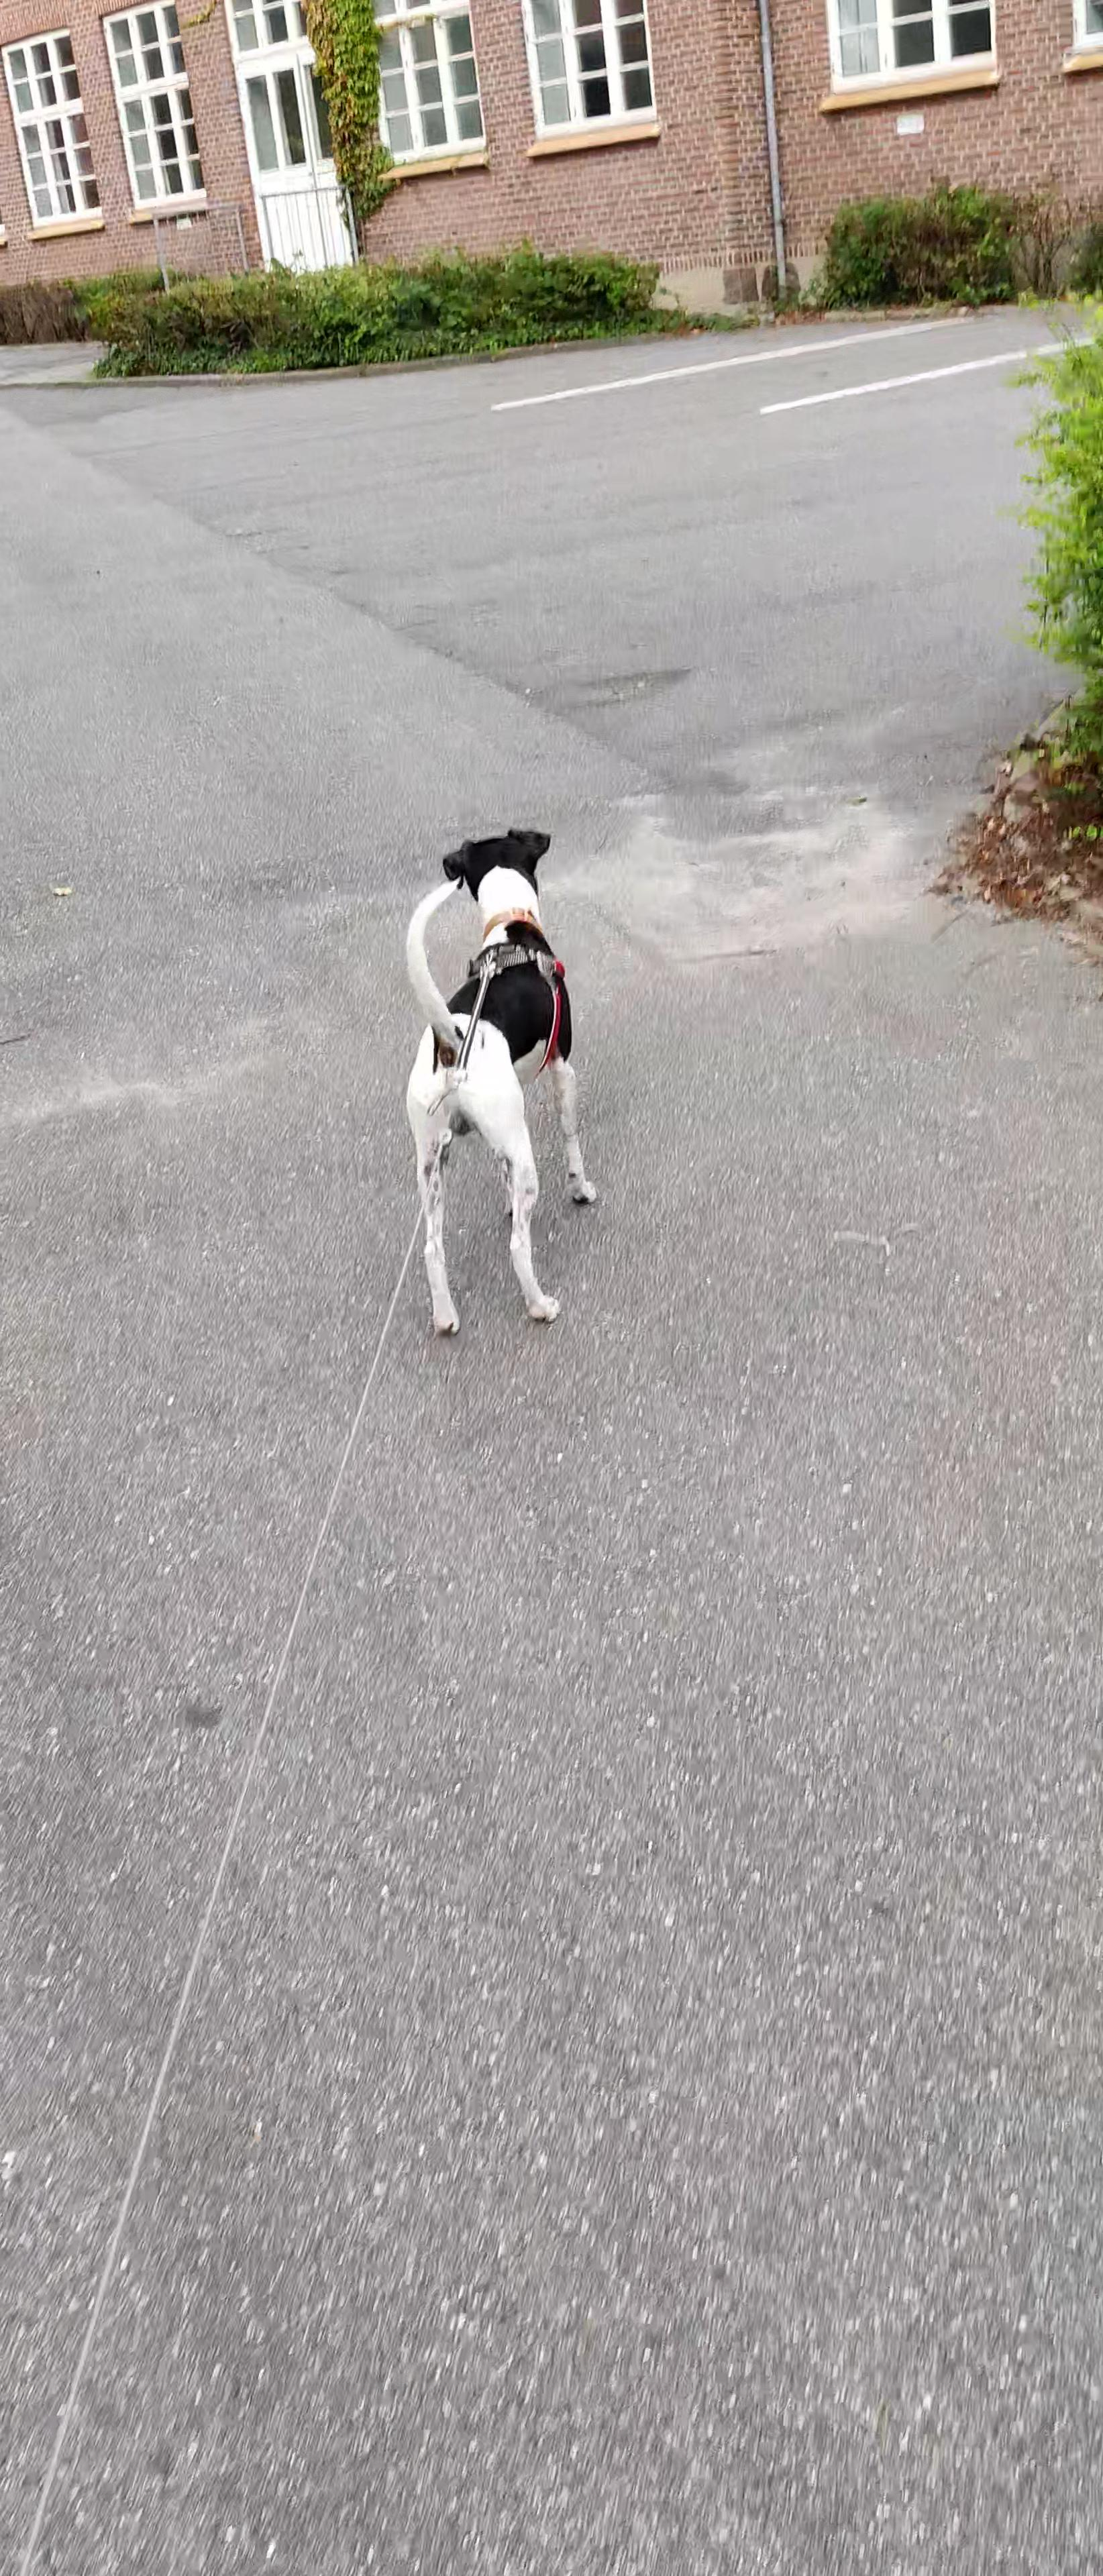Dog: (398, 818, 610, 1354)
